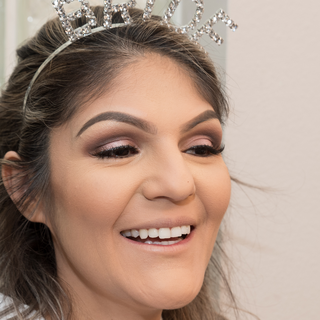eye: (84, 139, 143, 166), (177, 135, 224, 162)
